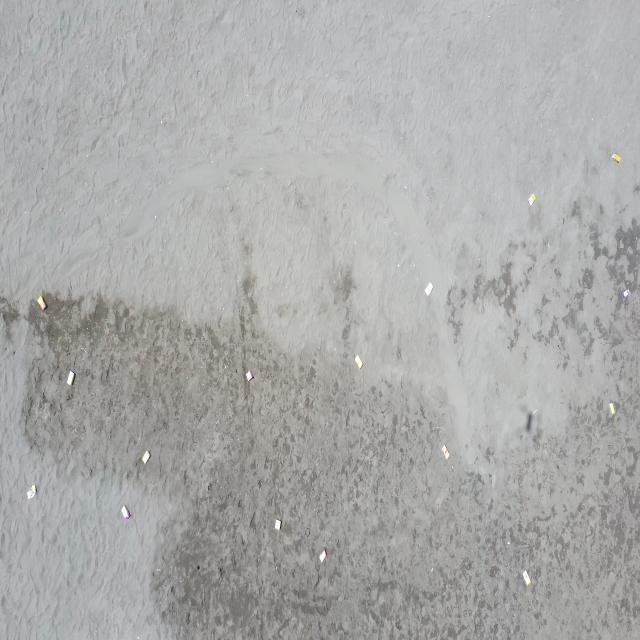Garbage: (526, 408, 535, 430), (120, 504, 129, 519), (523, 570, 531, 586), (67, 369, 75, 384), (424, 281, 432, 295), (36, 296, 44, 310), (140, 449, 148, 463), (28, 484, 35, 499), (440, 444, 447, 459), (319, 548, 326, 562), (527, 192, 535, 204), (611, 153, 620, 163), (244, 369, 252, 380), (353, 355, 360, 367), (609, 402, 615, 415), (273, 519, 280, 529), (623, 288, 628, 296)
